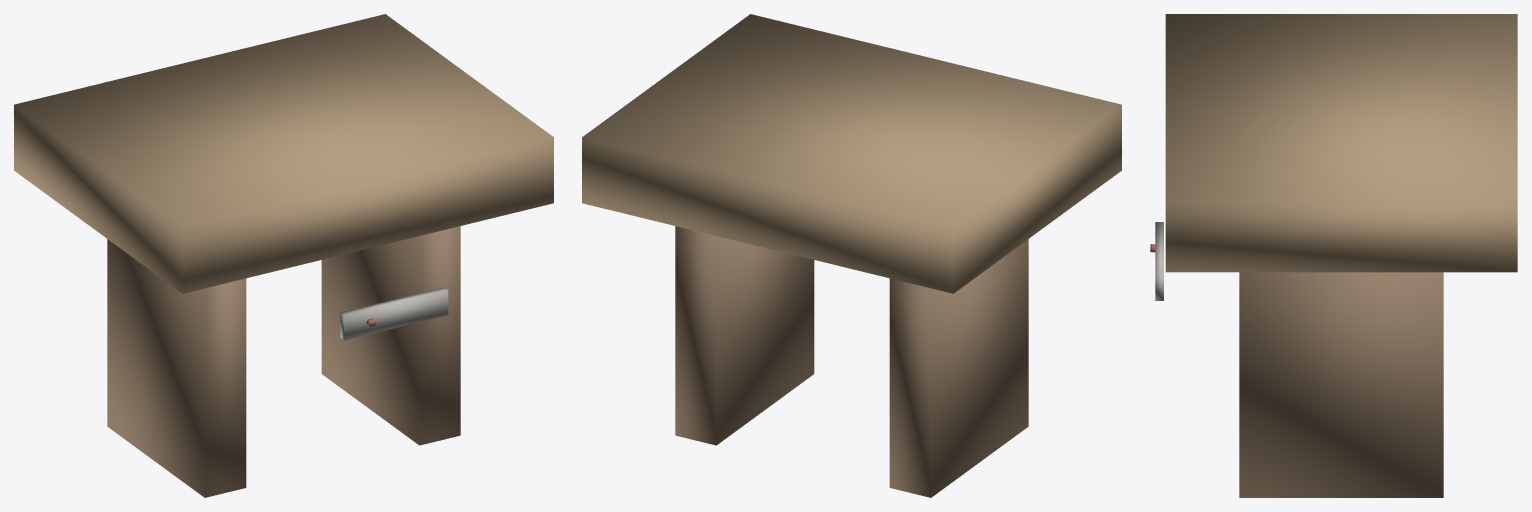
File: butcher_block__squat.glb
The picture shows the model from 3 angles, left to right: view 1: azimuth 30°, elevation 25°; view 2: azimuth 150°, elevation 25°; view 3: azimuth 270°, elevation 25°; orthographic projection. The views are drawn at different scales.
Parts seen in each view (by area): view 1: world; view 2: world; view 3: world.
Part boxes in pixels (box(x1,y1,x2,y2)): world: box(14, 14, 553, 497); world: box(582, 14, 1121, 497); world: box(1150, 14, 1517, 497).
Bounding box in the file's own units: 0.99 × 0.7896 × 0.8111.
